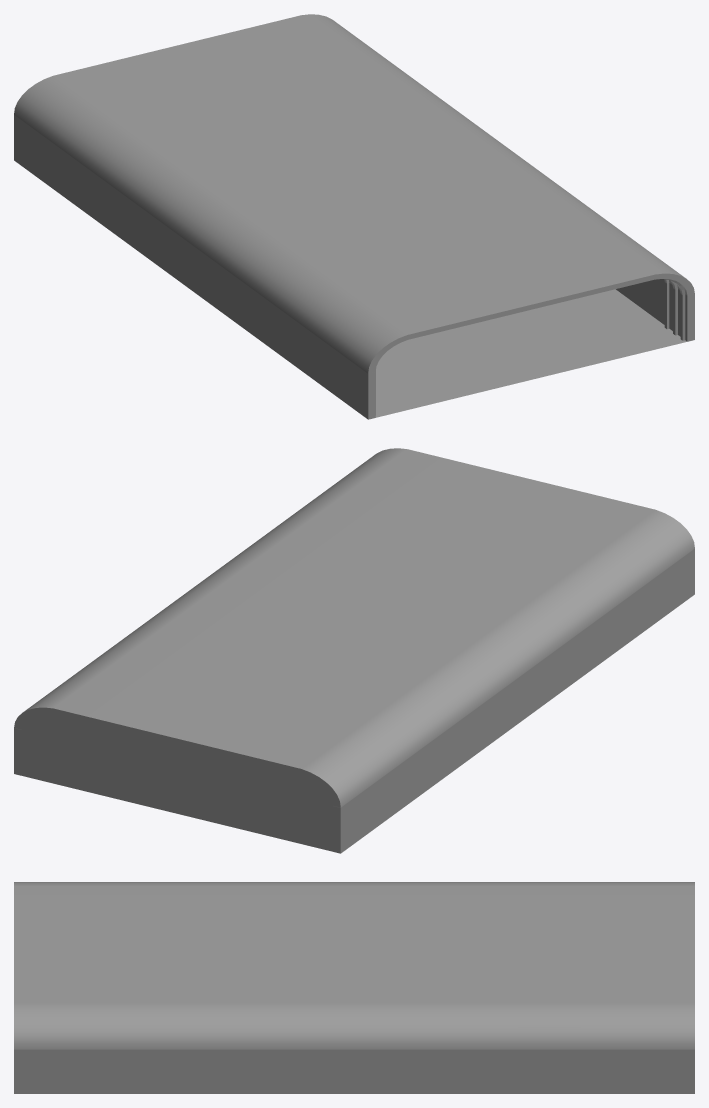
Rendered from SpaceHangar.fbx.
The picture shows the model from 3 angles, top to bottom: view 1: azimuth 30°, elevation 25°; view 2: azimuth 150°, elevation 25°; view 3: azimuth 270°, elevation 25°; orthographic projection. The views are drawn at different scales.
Visible parts, largest first — view 1: polySurface3; view 2: polySurface3; view 3: polySurface3.
Boxes of the visible parts, x1,y1,x2,y2 form: polySurface3: (14,14,694,419); polySurface3: (14,448,694,853); polySurface3: (14,882,694,1093).
Size of the model in its own units: 21.6 by 4.75 by 40.56.
3 materials, 3 textured.
